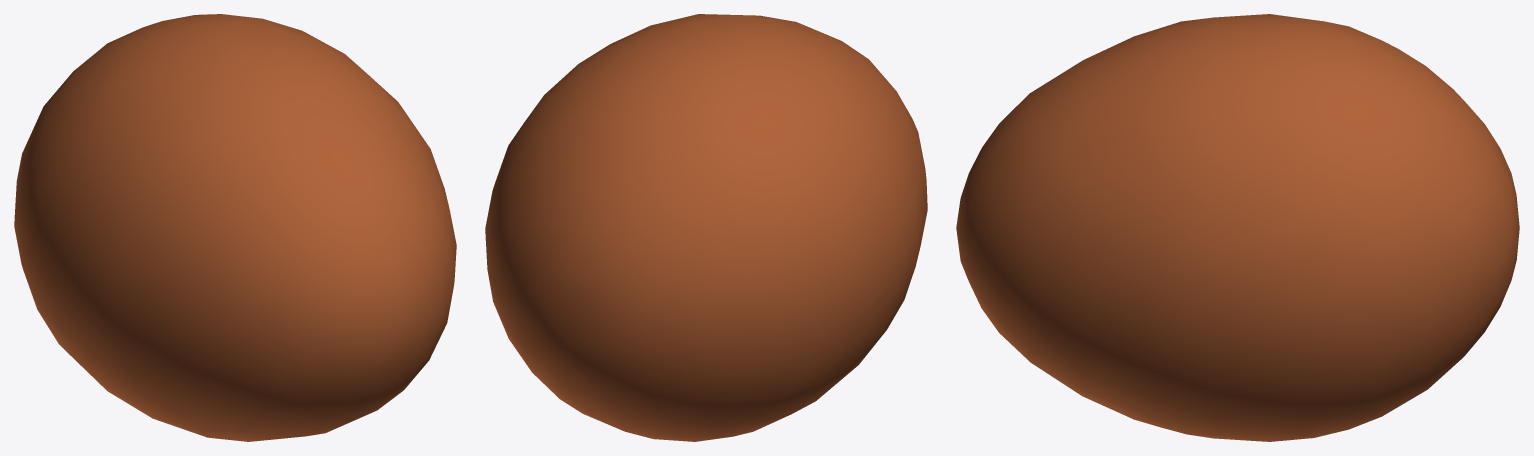
Rendered from MeshEgg_15_0.obj.
3 renders of one model, left to right at view 1: azimuth 30°, elevation 25°; view 2: azimuth 150°, elevation 25°; view 3: azimuth 270°, elevation 25°, orthographic. The views are drawn at different scales.
Visible parts, largest first — view 1: Egg_15; view 2: Egg_15; view 3: Egg_15.
Part boxes in pixels (bbox=[...]): Egg_15: bbox=[14, 14, 456, 441]; Egg_15: bbox=[485, 14, 927, 441]; Egg_15: bbox=[956, 14, 1519, 441].
Bounding box in the file's own units: 0.0601 × 0.0601 × 0.0792.
